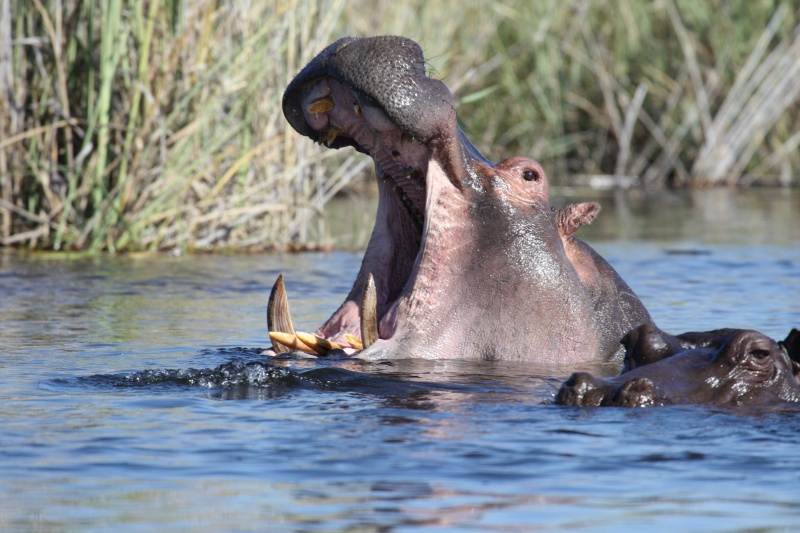hipopotamo: (237, 28, 674, 377)
